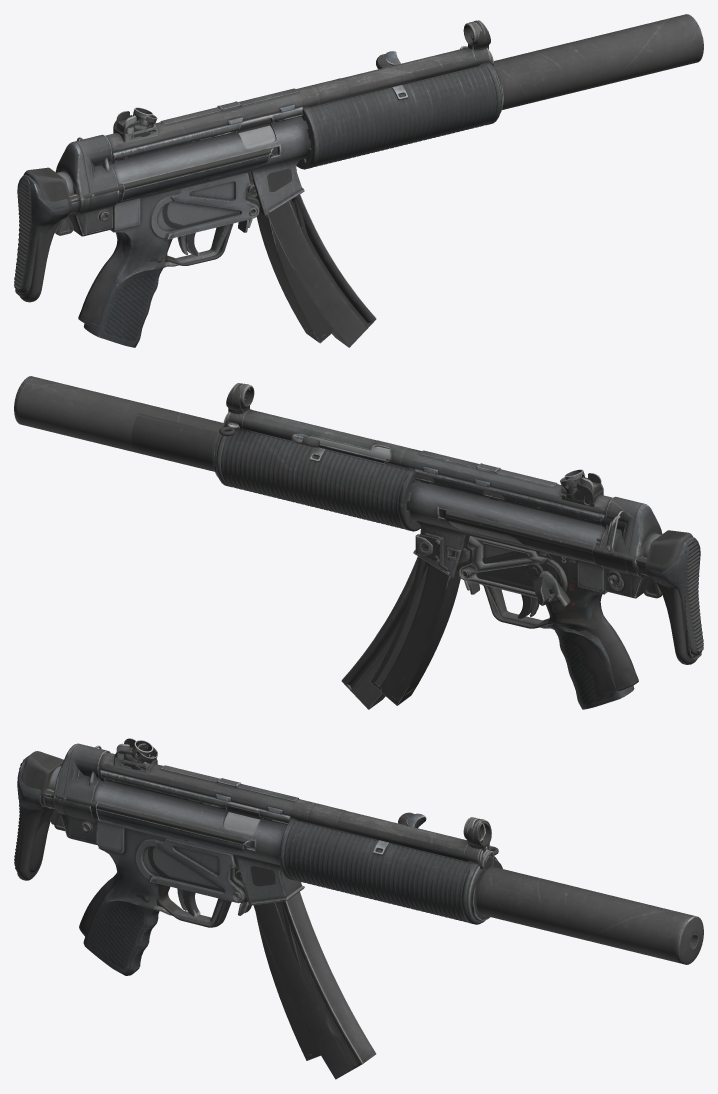
3 renders of one model, top to bottom at view 1: azimuth 30°, elevation 25°; view 2: azimuth 150°, elevation 25°; view 3: azimuth 330°, elevation 25°, orthographic.
Visible parts, largest first — view 1: weapon_smg_mp5sd.vmdl_c.body_legacy, weapon_smg_mp5sd.vmdl_c.body_hd; view 2: weapon_smg_mp5sd.vmdl_c.body_legacy, weapon_smg_mp5sd.vmdl_c.body_hd; view 3: weapon_smg_mp5sd.vmdl_c.body_legacy, weapon_smg_mp5sd.vmdl_c.body_hd.
Part boxes in pixels (x1,y1,x2,y2): weapon_smg_mp5sd.vmdl_c.body_legacy: [14, 14, 703, 347]; weapon_smg_mp5sd.vmdl_c.body_hd: [14, 20, 503, 343]; weapon_smg_mp5sd.vmdl_c.body_legacy: [14, 376, 703, 709]; weapon_smg_mp5sd.vmdl_c.body_hd: [131, 383, 701, 705]; weapon_smg_mp5sd.vmdl_c.body_legacy: [14, 738, 703, 1079]; weapon_smg_mp5sd.vmdl_c.body_hd: [15, 743, 502, 1060].
Size of the model in its own units: 30.62 by 12.42 by 2.83.
2 materials, 2 textured.
